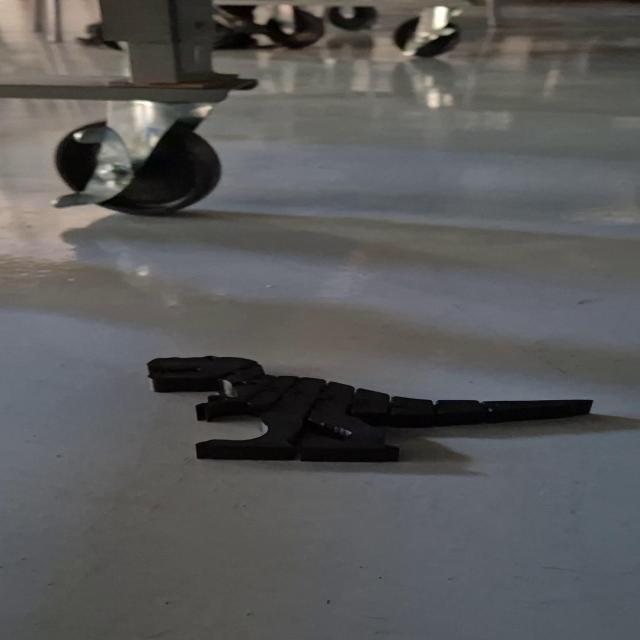dino: (145, 354, 596, 464)
